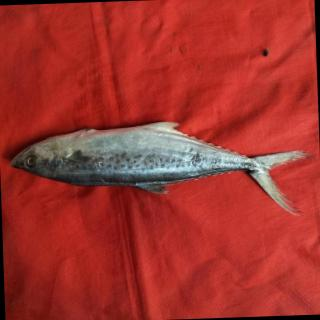Ikan: (6, 110, 320, 233)
